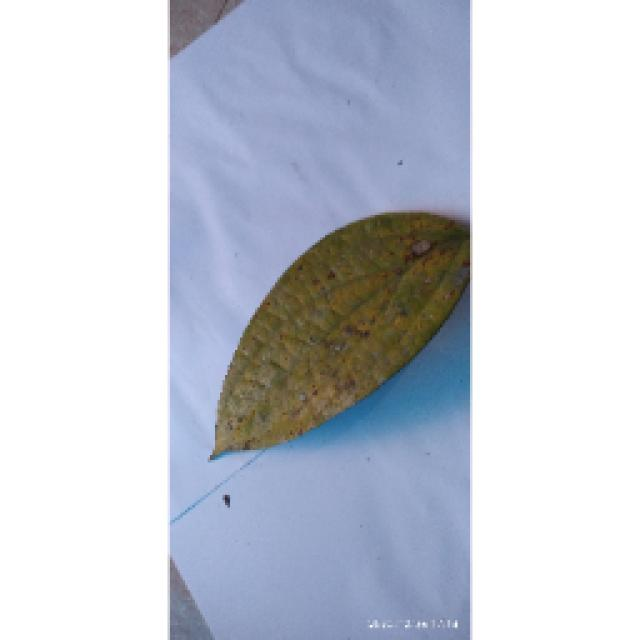slow-decline: (205, 208, 473, 458)
